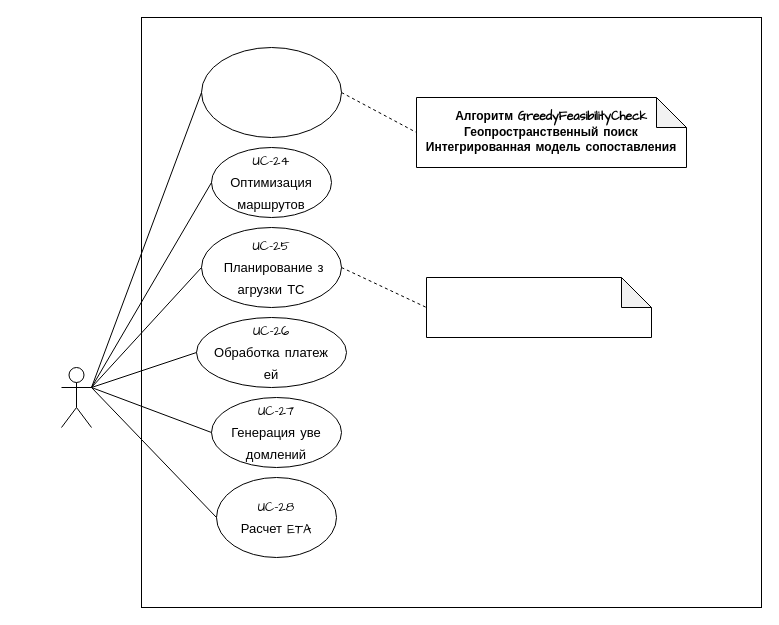
Image size: 779x625. Some labels were removed from this diagram. Here are the shapes that lost their labels. From the top down, the centre of each, then its label:
the point at 271,92: UC-23 Интеллектуальное сопоставление заказов
the point at 539,307: Алгоритм Bin Packing Расчет центра масс
the point at 76,397: автоматизированные процессы
